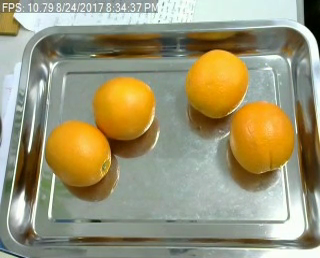Orange: (229, 101, 295, 174), (44, 119, 111, 185), (186, 48, 248, 117), (93, 78, 155, 141)
